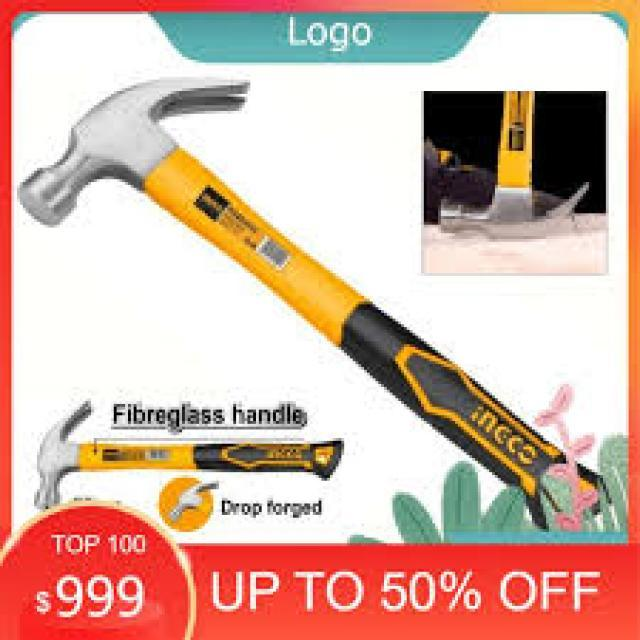hammer: (12, 67, 622, 545), (24, 394, 351, 516), (423, 83, 598, 254)
